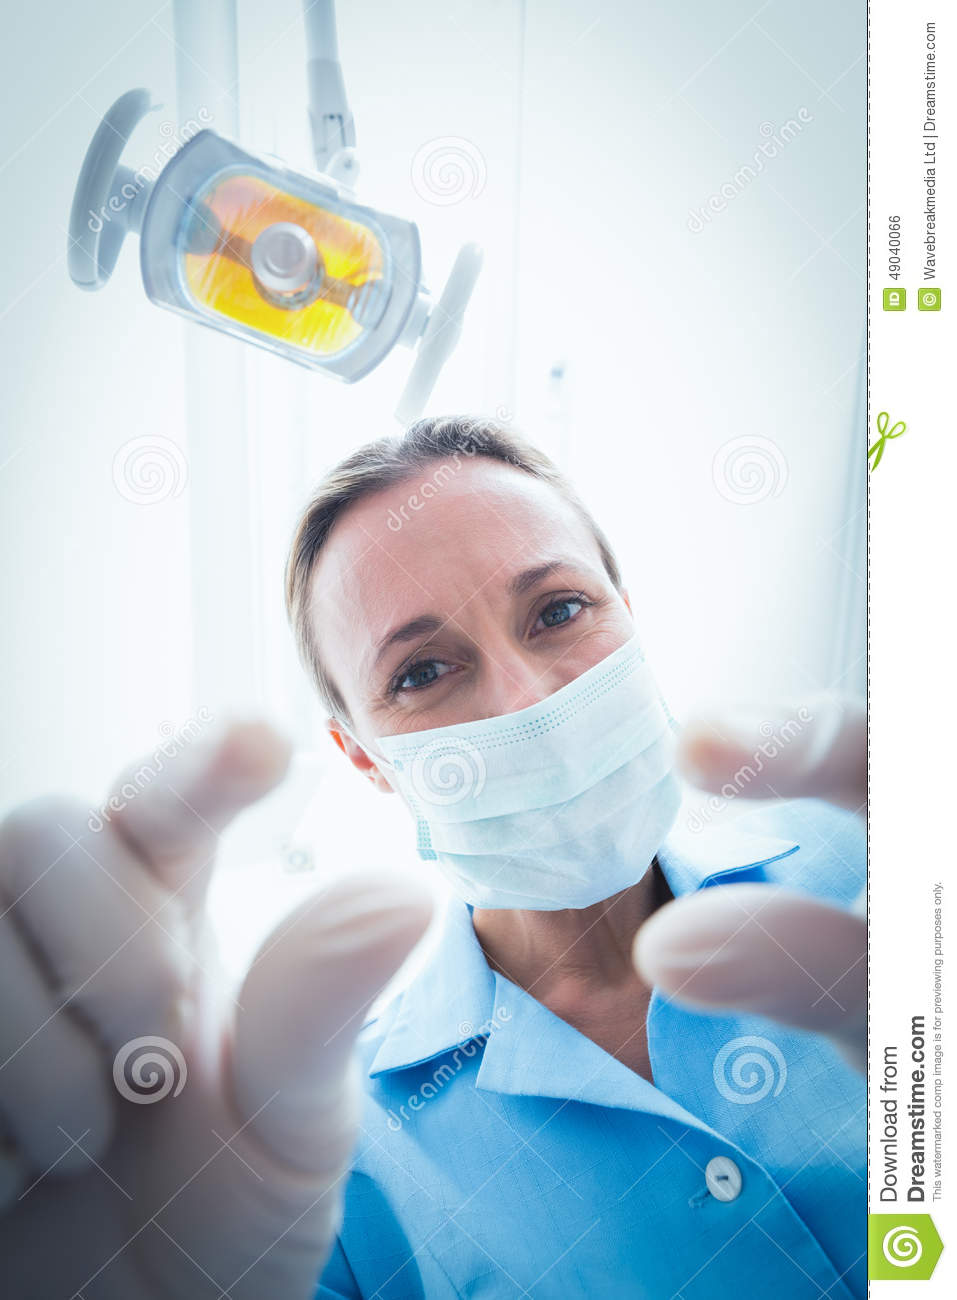mask: (350, 687, 714, 923)
